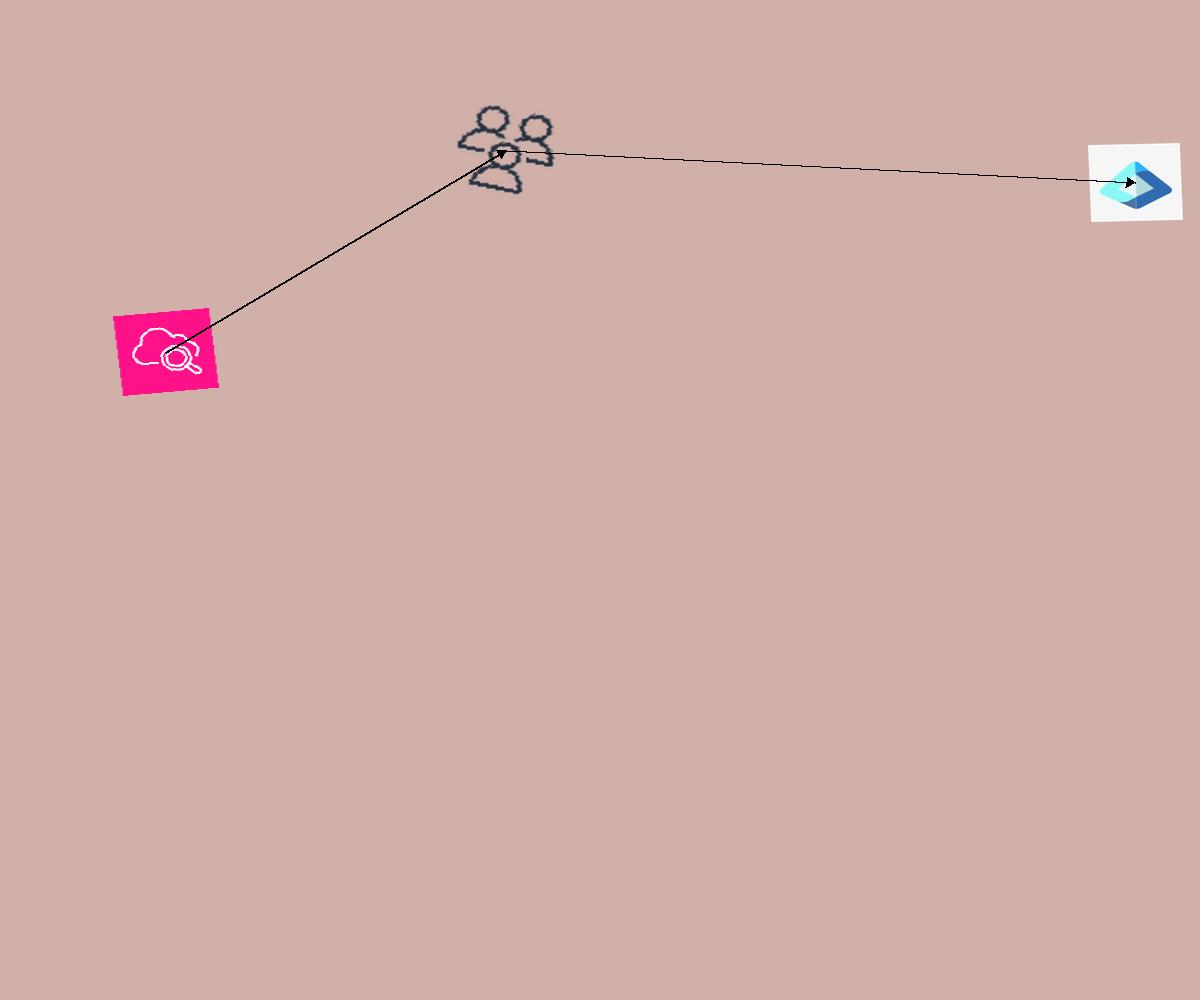AWS-CloudWatch: (113, 308, 219, 396)
AWS-Res_Users: (440, 95, 573, 205)
Azure_microsoft_entra: (1088, 143, 1183, 222)
